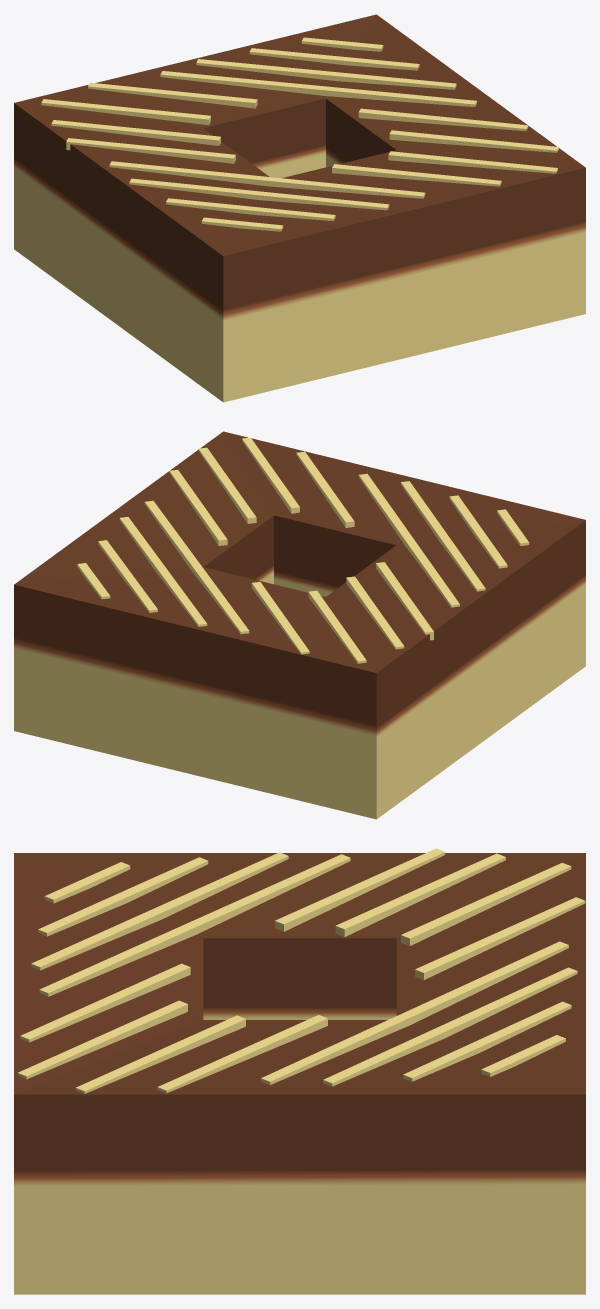
File: TradicionalDonut.fbx
3 renders of one model, top to bottom at view 1: azimuth 30°, elevation 25°; view 2: azimuth 150°, elevation 25°; view 3: azimuth 270°, elevation 25°, orthographic. The views are drawn at different scales.
Parts seen in each view (by area): view 1: Cube.001; view 2: Cube.001; view 3: Cube.001.
Boxes of the visible parts, x1,y1,x2,y2 form: Cube.001: (14,14,585,402); Cube.001: (14,431,585,819); Cube.001: (14,848,585,1294).
Bounding box in the file's own units: 388 × 150 × 385.
1 material, 1 textured.
